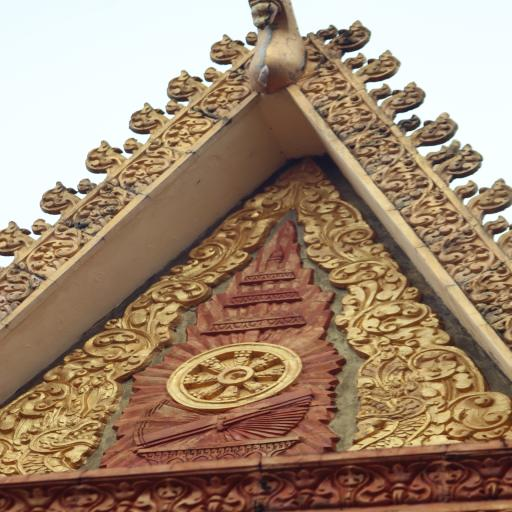la: (85, 280, 208, 356), (174, 198, 278, 284), (0, 356, 146, 415), (334, 334, 487, 388), (328, 263, 424, 334), (301, 202, 373, 264), (311, 463, 386, 510), (406, 461, 482, 504), (261, 161, 331, 203), (224, 469, 293, 511), (133, 472, 205, 512), (24, 229, 85, 275), (55, 479, 119, 512), (76, 191, 130, 230), (120, 154, 178, 190), (0, 269, 44, 316), (160, 116, 216, 148), (204, 82, 252, 118), (419, 222, 470, 254), (405, 192, 450, 227), (325, 102, 372, 135), (357, 131, 398, 167), (377, 166, 426, 196), (309, 71, 350, 105), (477, 276, 512, 315), (452, 247, 490, 278)
lua: (408, 107, 461, 146), (471, 178, 512, 214), (438, 144, 484, 176), (333, 19, 373, 55), (40, 180, 79, 216), (86, 139, 123, 173), (386, 82, 425, 114), (362, 48, 402, 79), (167, 68, 203, 100), (211, 32, 246, 64), (129, 103, 166, 133), (0, 218, 30, 251)
ran: (10, 416, 104, 475), (352, 387, 432, 449)
